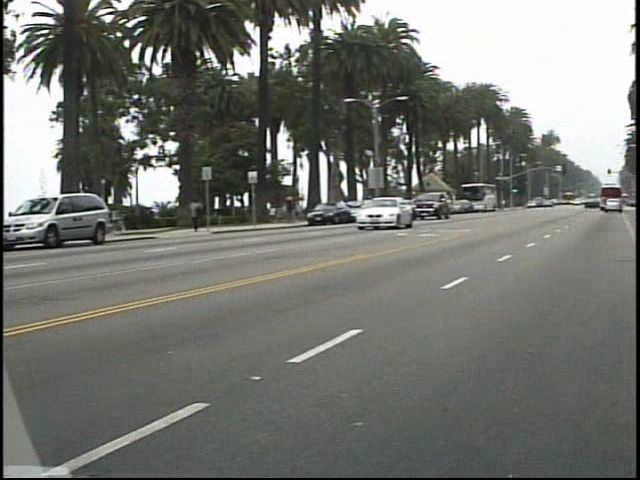person: (193, 193, 215, 233), (290, 189, 310, 224)
